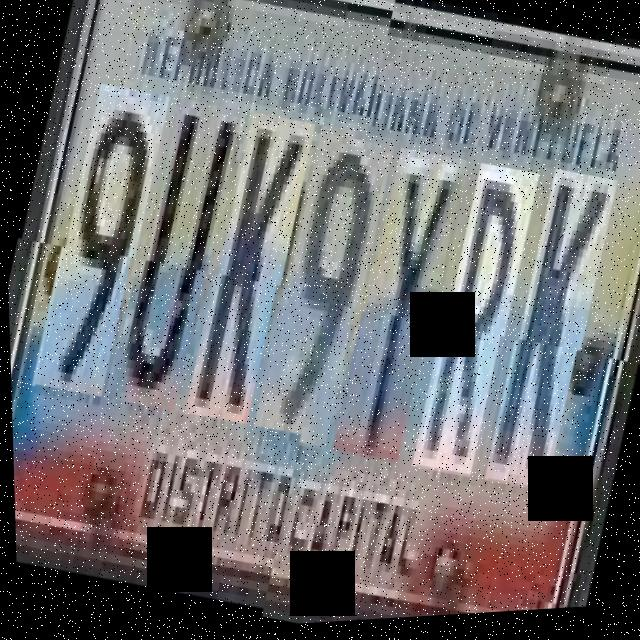9: (245, 133, 399, 457), (23, 89, 174, 412)
K: (477, 173, 623, 502), (176, 120, 320, 440)
R: (404, 167, 545, 486)
U: (100, 104, 247, 426)
Y: (324, 150, 472, 472)
